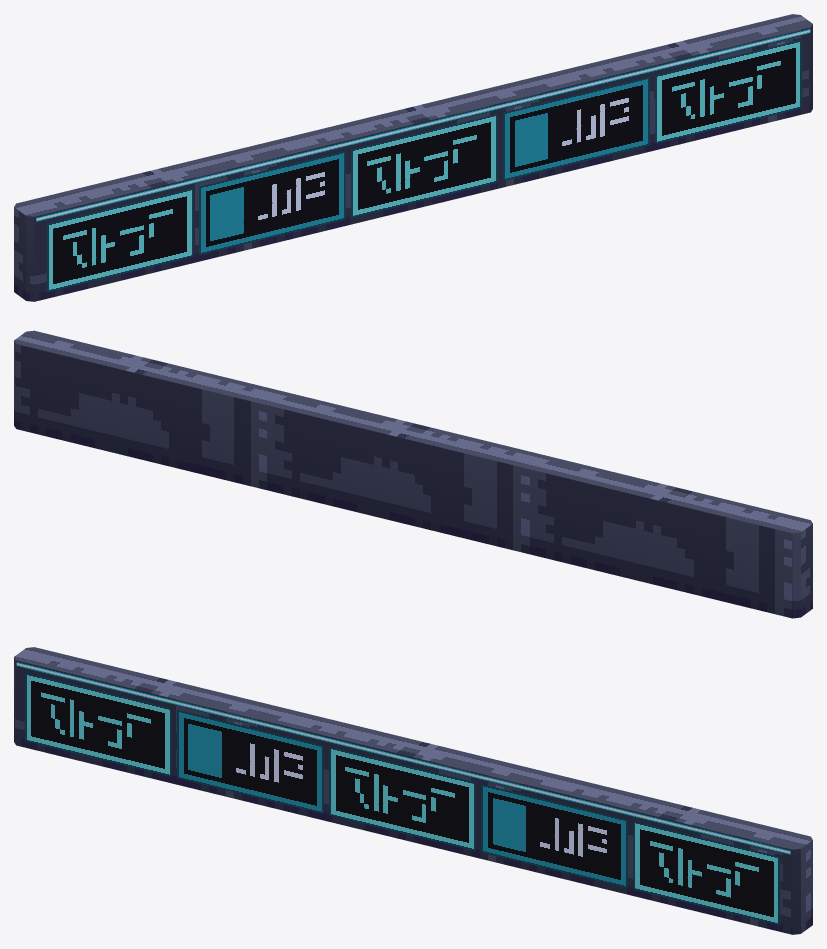
The model's file is cysign.ticker.glb.
3 renders of one model, top to bottom at view 1: azimuth 30°, elevation 25°; view 2: azimuth 150°, elevation 25°; view 3: azimuth 330°, elevation 25°, orthographic.
Visible parts, largest first — view 1: kit_card_band, kit_housing; view 2: kit_housing; view 3: kit_card_band, kit_housing.
Boxes of the visible parts, bbox=[...] form: kit_card_band: bbox=[36, 28, 810, 292]; kit_housing: bbox=[14, 14, 812, 301]; kit_housing: bbox=[14, 330, 812, 618]; kit_card_band: bbox=[16, 661, 790, 925]; kit_housing: bbox=[14, 647, 812, 934].
Bounding box in the file's own units: 6 × 0.62 × 0.265.
Materials: 3 (3 with a texture image).
